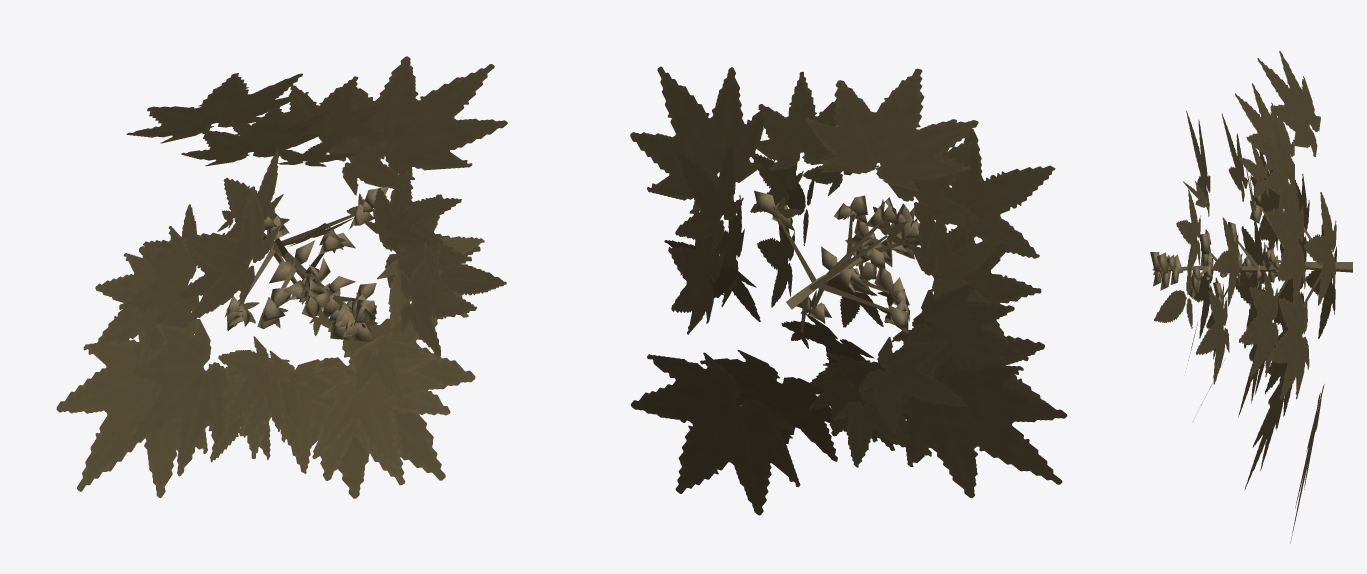
Rendered from p_male_tree_flowering_c4_cards.obj.
3 views of the same model, side by side, from view 1: azimuth 30°, elevation 25°; view 2: azimuth 150°, elevation 25°; view 3: azimuth 270°, elevation 25° (orthographic). The views are drawn at different scales.
Bounding box in the file's own units: 1.32 × 1.26 × 0.517.
1 material, 1 textured.
